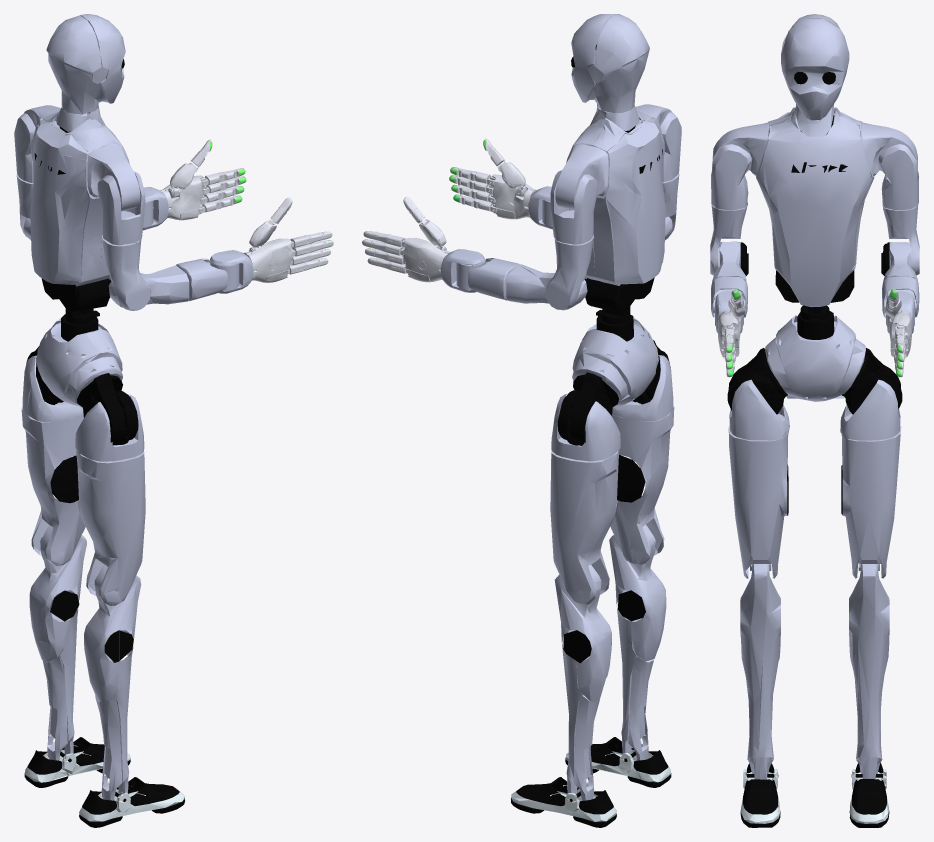
The picture shows the model from 3 angles, left to right: view 1: azimuth 30°, elevation 25°; view 2: azimuth 150°, elevation 25°; view 3: azimuth 270°, elevation 25°; orthographic projection.
Visible parts, largest first — view 1: torso_link_mesh, right_hip_yaw_link_mesh, left_knee_link_mesh, right_knee_link_mesh, left_hip_yaw_link_mesh, head_yaw_link, pelvis_mesh, right_ankle_pitch_link, right_hip_pitch_link_mesh, right_hip_roll_link_mesh, left_ankle_pitch_link, right_shoulder_roll_link_mesh (+11 smaller); view 2: torso_link_mesh, left_hip_yaw_link_mesh, left_knee_link_mesh, right_knee_link_mesh, right_hip_yaw_link_mesh, head_yaw_link, pelvis_mesh, left_ankle_pitch_link, left_hip_roll_link_mesh, left_hip_pitch_link_mesh, right_ankle_pitch_link, left_shoulder_roll_link_mesh (+11 smaller); view 3: torso_link_mesh, right_hip_yaw_link_mesh, pelvis_mesh, left_hip_yaw_link_mesh, left_knee_link_mesh, right_knee_link_mesh, head_yaw_link, left_hip_roll_link_mesh, right_hip_roll_link_mesh, left_shoulder_roll_link_mesh, right_shoulder_roll_link_mesh, right_ankle_pitch_link (+17 smaller).
Part boxes in pixels (box(x1,y1,x2,y2)): torso_link_mesh: box(30, 111, 129, 314); right_hip_yaw_link_mesh: box(76, 449, 145, 605); left_knee_link_mesh: box(29, 525, 86, 760); right_knee_link_mesh: box(84, 564, 141, 800); left_hip_yaw_link_mesh: box(21, 407, 85, 565); head_yaw_link: box(46, 14, 125, 114); pelvis_mesh: box(36, 314, 122, 407); right_ankle_pitch_link: box(79, 777, 184, 827); right_hip_pitch_link_mesh: box(77, 373, 138, 445); right_hip_roll_link_mesh: box(75, 394, 144, 461); left_ankle_pitch_link: box(24, 737, 130, 787); right_shoulder_roll_link_mesh: box(97, 171, 145, 245); torso_link_mesh: box(566, 111, 665, 313); left_hip_yaw_link_mesh: box(550, 449, 619, 605); left_knee_link_mesh: box(554, 565, 611, 800); right_knee_link_mesh: box(609, 524, 666, 760); right_hip_yaw_link_mesh: box(610, 406, 674, 565); head_yaw_link: box(571, 14, 649, 113); pelvis_mesh: box(572, 314, 658, 406); left_ankle_pitch_link: box(511, 777, 616, 827); left_hip_roll_link_mesh: box(551, 394, 620, 461); left_hip_pitch_link_mesh: box(557, 372, 618, 445); right_ankle_pitch_link: box(565, 737, 671, 787); left_shoulder_roll_link_mesh: box(550, 170, 597, 244); torso_link_mesh: box(756, 107, 874, 306); right_hip_yaw_link_mesh: box(728, 425, 788, 578); pelvis_mesh: box(765, 310, 865, 401); left_hip_yaw_link_mesh: box(841, 425, 901, 578); left_knee_link_mesh: box(849, 563, 889, 779); right_knee_link_mesh: box(740, 564, 780, 779); head_yaw_link: box(781, 14, 849, 120); left_hip_roll_link_mesh: box(840, 379, 900, 440); right_hip_roll_link_mesh: box(729, 379, 789, 440); left_shoulder_roll_link_mesh: box(878, 144, 918, 209); right_shoulder_roll_link_mesh: box(711, 144, 751, 209); right_ankle_pitch_link: box(740, 763, 780, 827).
Size of the model in its own units: 0.6129 by 1.83 by 0.4466.
